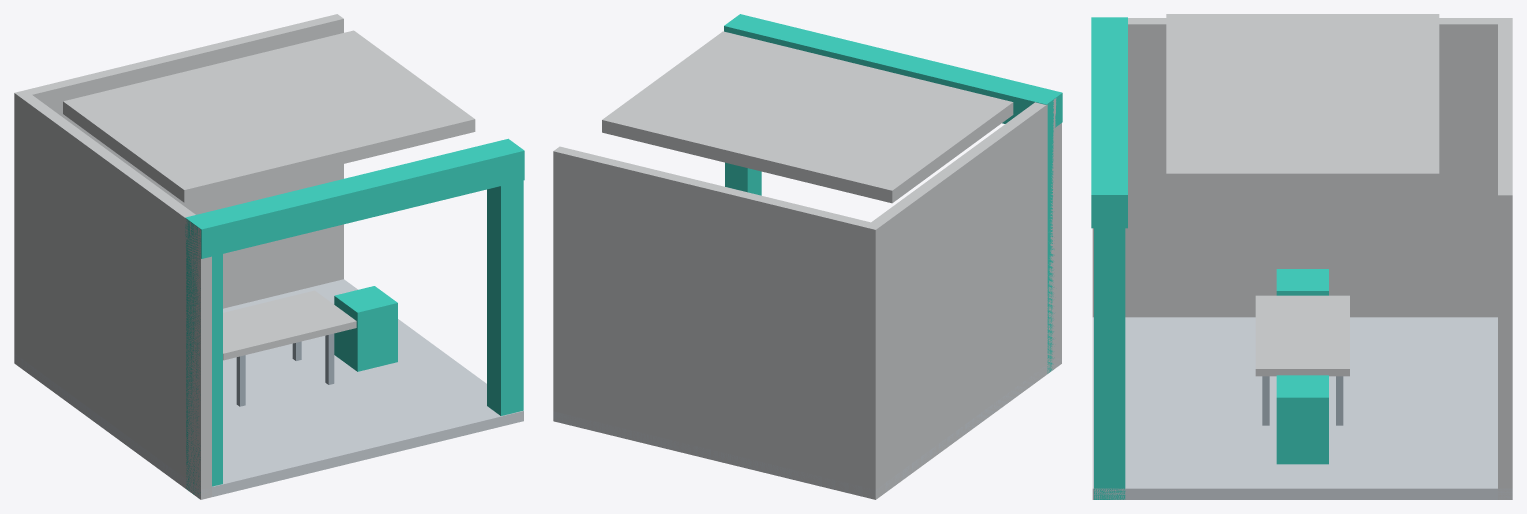
3 renders of one model, left to right at view 1: azimuth 30°, elevation 25°; view 2: azimuth 150°, elevation 25°; view 3: azimuth 270°, elevation 25°, orthographic. The views are drawn at different scales.
Parts seen in each view (by area): view 1: Exhibition Booth Concept; view 2: Exhibition Booth Concept; view 3: Exhibition Booth Concept.
Part boxes in pixels (bbox=[...]): Exhibition Booth Concept: bbox=[14, 14, 524, 499]; Exhibition Booth Concept: bbox=[553, 14, 1062, 499]; Exhibition Booth Concept: bbox=[1091, 14, 1512, 499].
Bounding box in the file's own units: 4 × 3.34 × 4.02.
